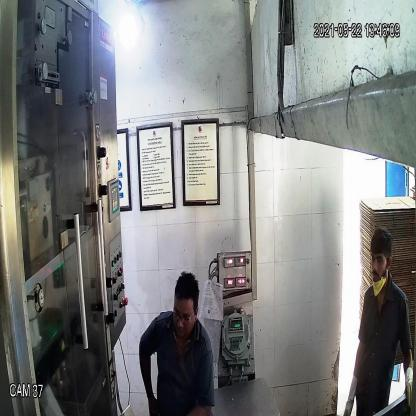goggles: (171, 304, 198, 324)
no_goggles: (366, 249, 391, 268)
